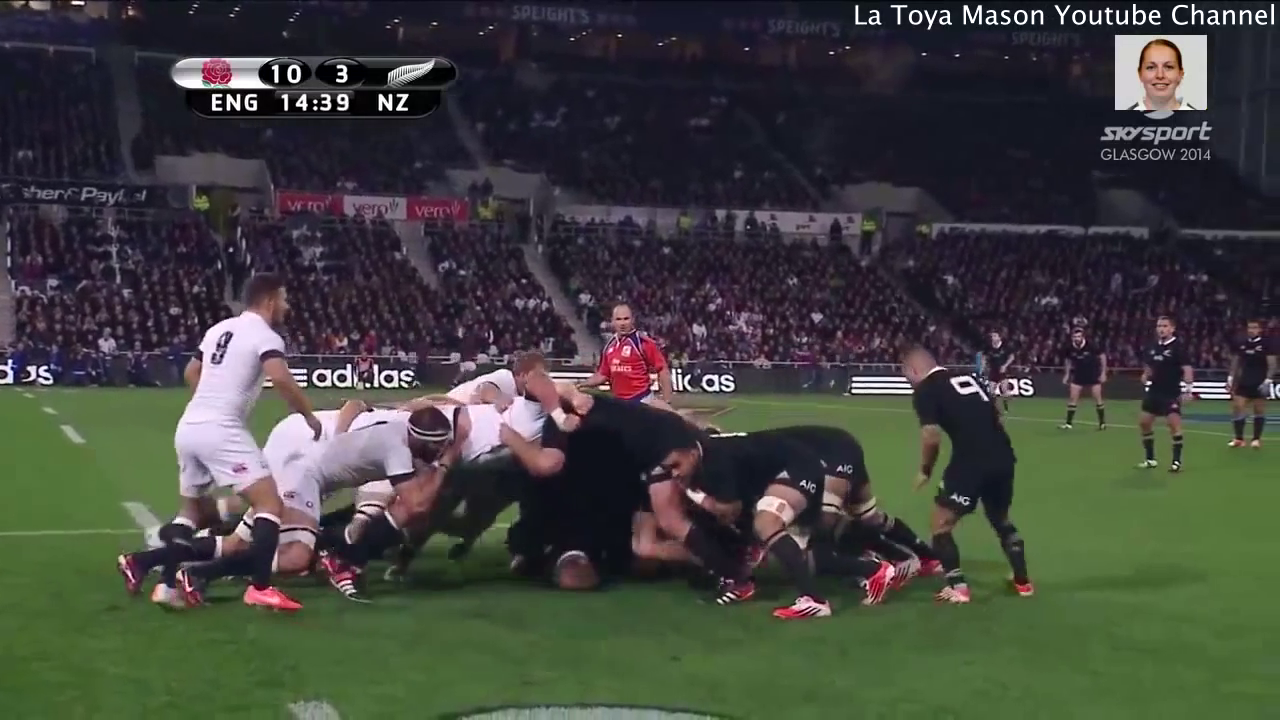player: (111, 255, 340, 630), (137, 391, 459, 606), (876, 337, 1057, 615), (652, 425, 835, 628), (322, 382, 566, 472), (568, 292, 684, 427), (1115, 305, 1193, 482), (1215, 304, 1280, 450), (1048, 320, 1123, 441), (975, 323, 1021, 421)
scrum: (213, 367, 954, 620)
